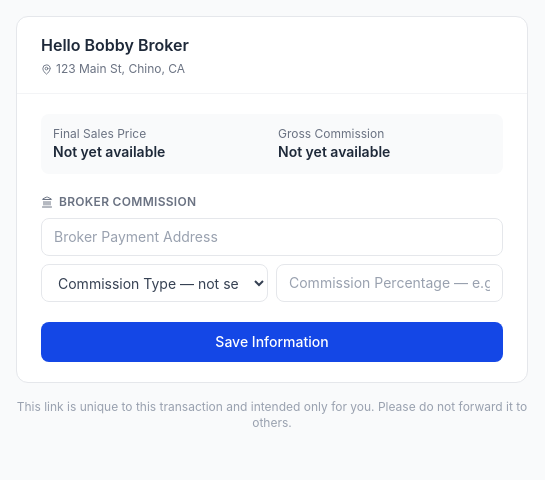
Test: BrokerUploadPage › shows a validation error for a percentage commission value over 100 without saving
Step 1. Select "Percentage" in the dropdown showing "Commission Type — not set" → (154, 283), box [41,264,268,302]
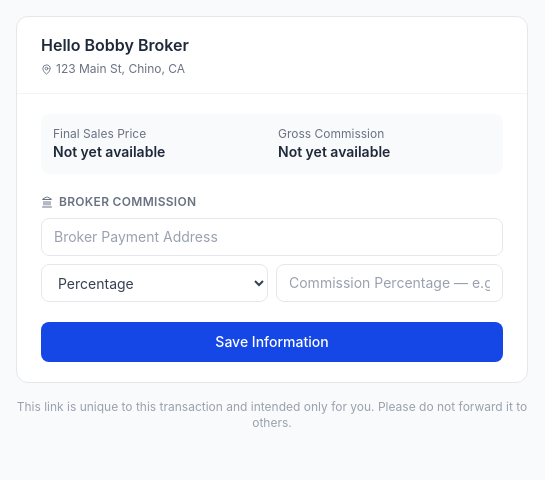
Step 2. Type "150" into the field with placeholder "Commission Percentage — e.g. 10" → (390, 283), box [276,264,503,302]
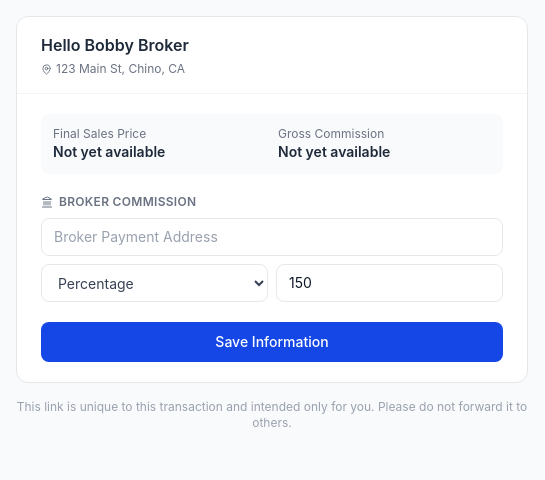
Step 3. Click the button "Save Information" → (272, 342), box [41,322,503,362]
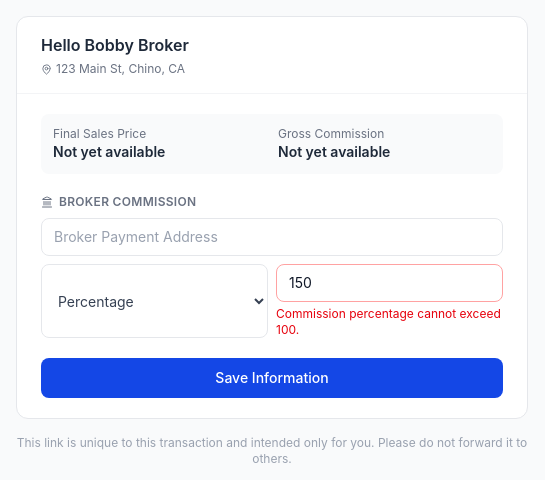
Result: the text "Commission percentage cannot exceed 100." is shown at [276,306,503,338]
